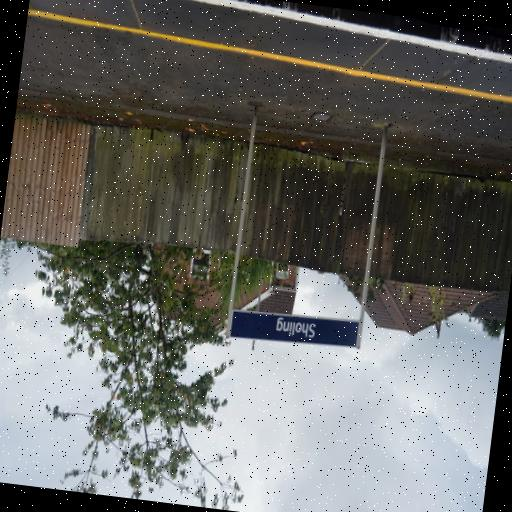platform_edge: (18, 0, 512, 154)
